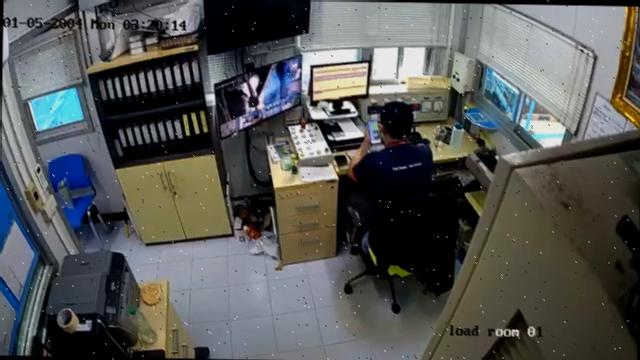Head: (378, 100, 414, 140)
People: (346, 99, 436, 201)
Phone: (366, 118, 383, 143), (333, 153, 350, 171)
